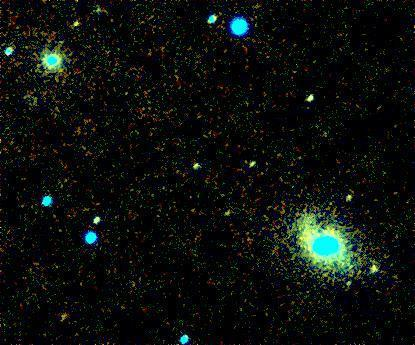star: (63, 8, 93, 38)
